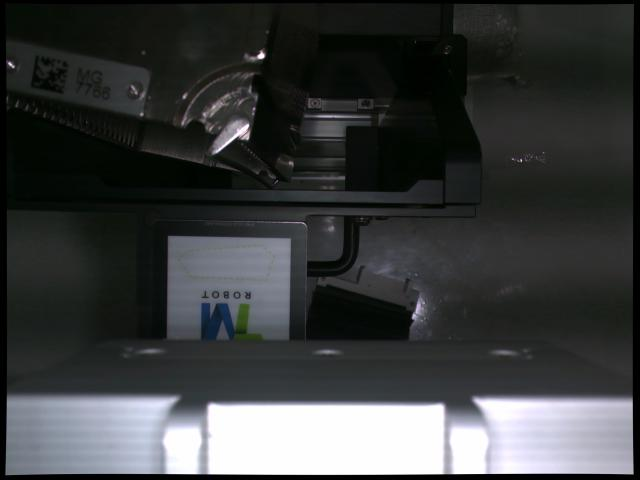jig_latch: (208, 116, 250, 155)
